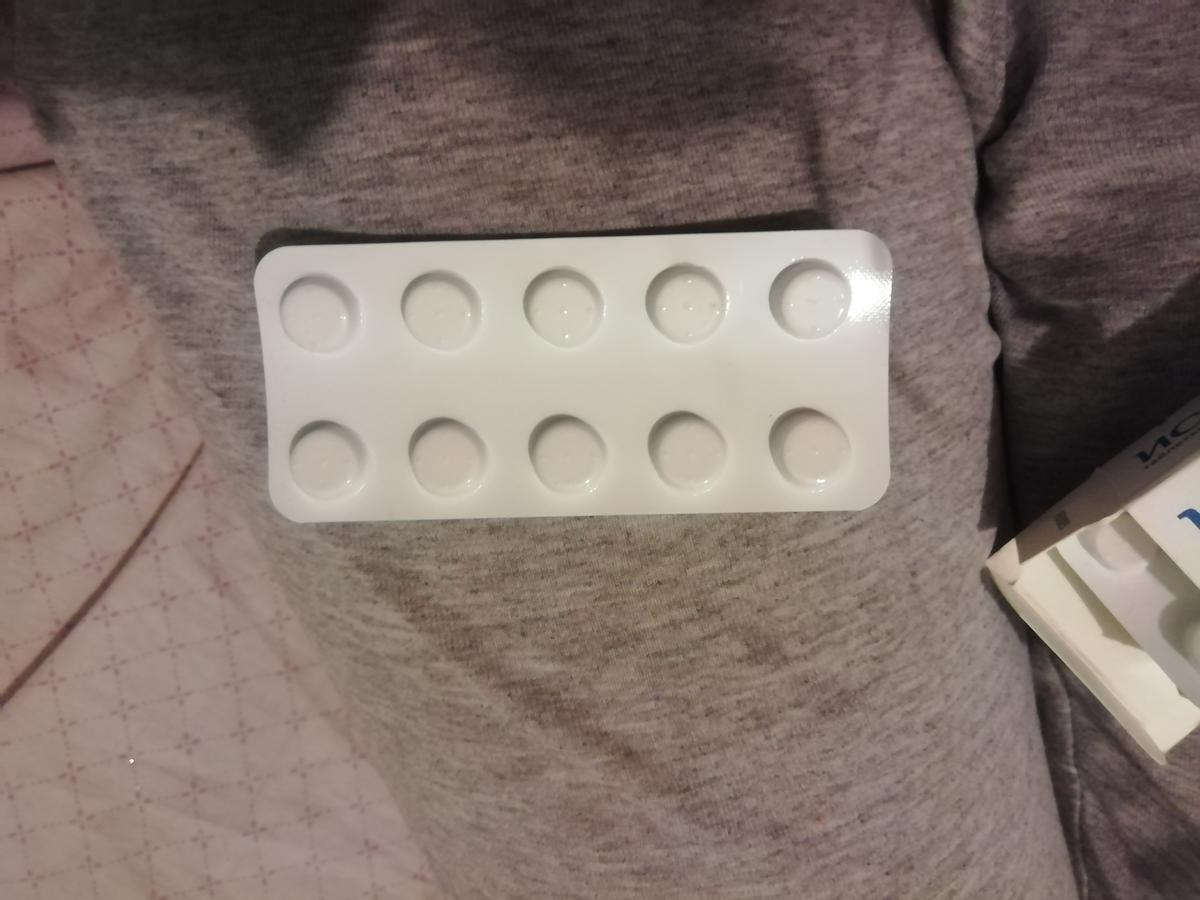tablet: (269, 275, 367, 362), (386, 270, 484, 357), (517, 265, 615, 352), (637, 259, 735, 346), (761, 257, 859, 344), (277, 418, 375, 505), (396, 415, 494, 502), (517, 411, 615, 498), (636, 408, 734, 495), (759, 408, 857, 495)
